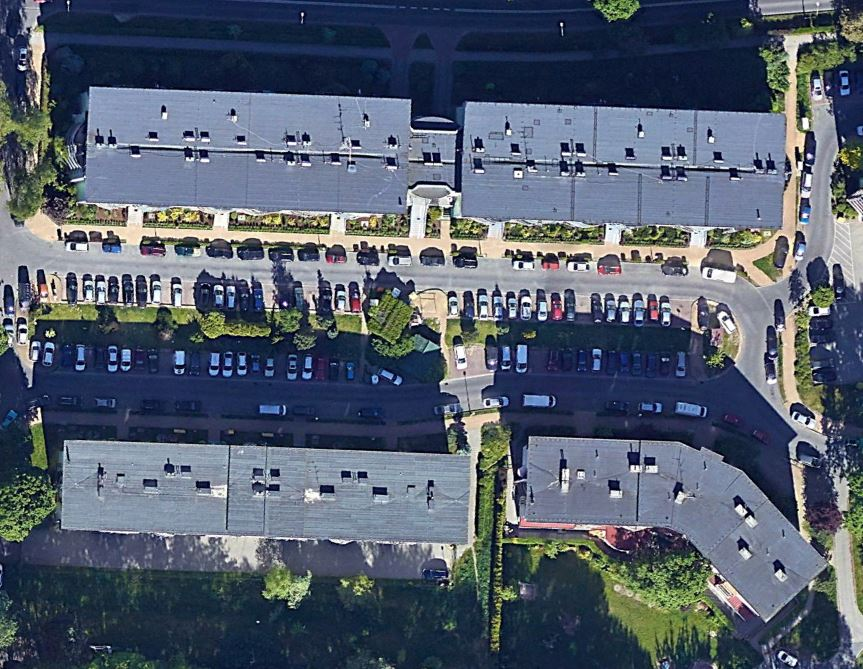block of flats: (65, 79, 791, 251), (516, 424, 833, 630), (55, 434, 479, 553)
